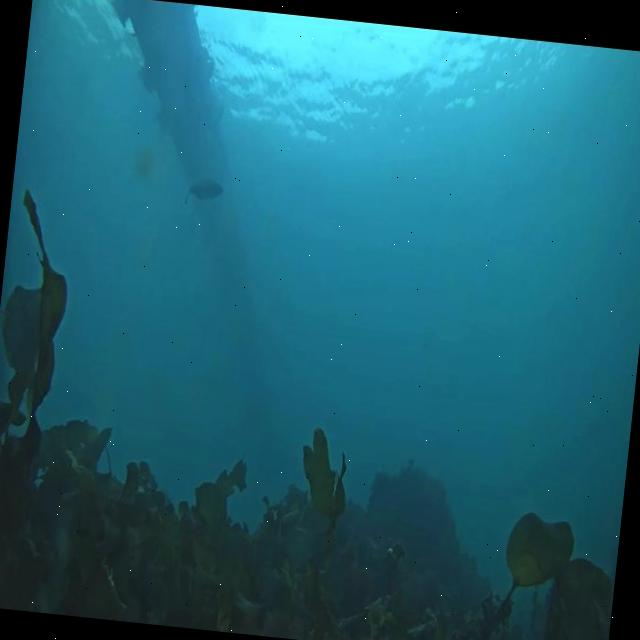fish: (187, 176, 224, 202)
